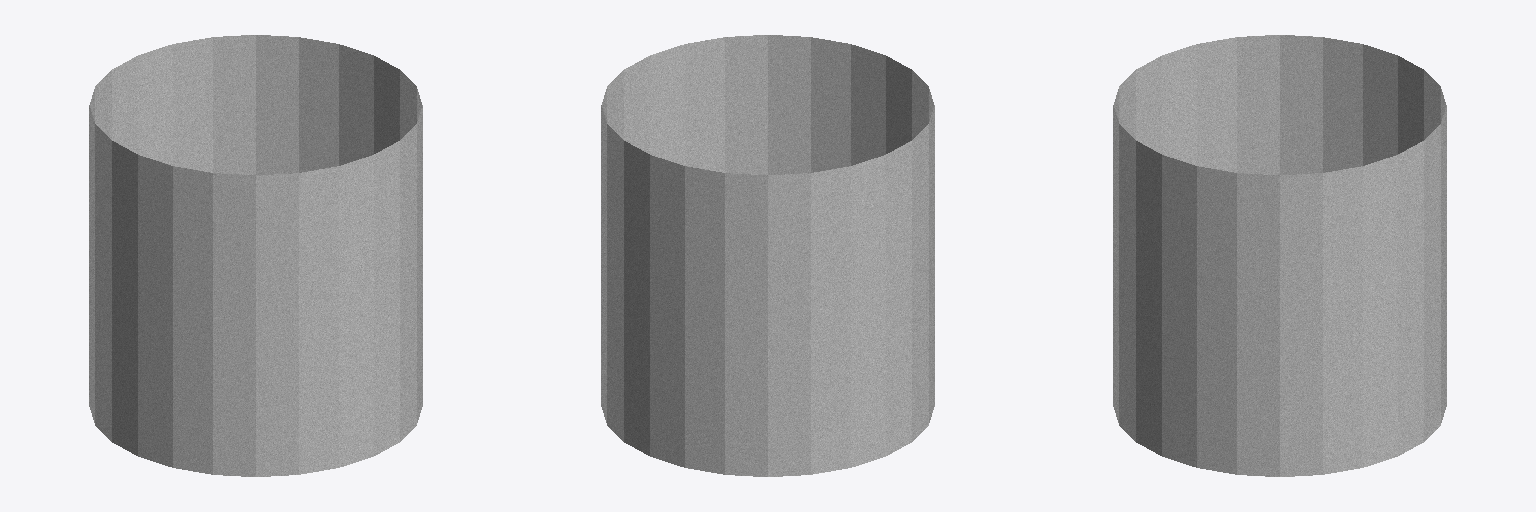
3 views of the same model, side by side, from view 1: azimuth 30°, elevation 25°; view 2: azimuth 150°, elevation 25°; view 3: azimuth 270°, elevation 25° (orthographic).
Parts seen in each view (by area): view 1: S1White3; view 2: S1White3; view 3: S1White3.
Boxes of the visible parts, <box> form: S1White3: <box>89,35,422,476</box>; S1White3: <box>601,35,934,476</box>; S1White3: <box>1113,35,1446,476</box>.
Bounding box in the file's own units: 1.25 × 1.25 × 1.25.
Materials: 1 (1 with a texture image).